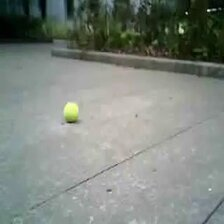tennis: (63, 102, 78, 121)
